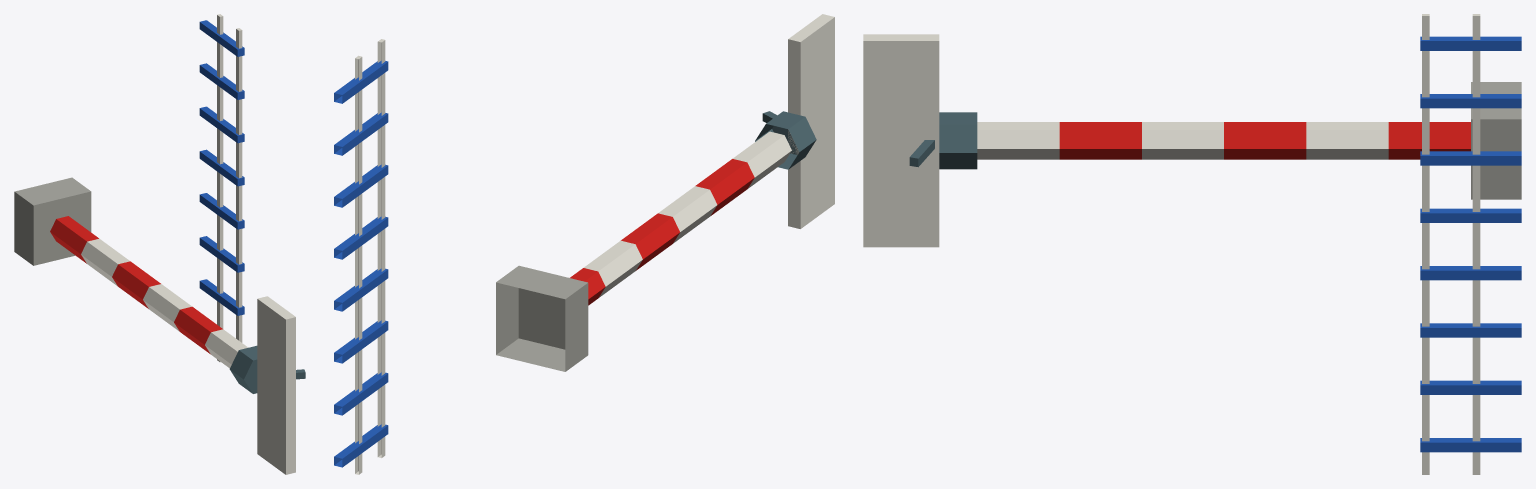
File: frame_9.glb
3 views of the same model, side by side, from view 1: azimuth 30°, elevation 25°; view 2: azimuth 150°, elevation 25°; view 3: azimuth 270°, elevation 25° (orthographic). The views are drawn at different scales.
Parts seen in each view (by area): view 1: t5_4_g31.009; view 2: t5_4_g31.009; view 3: t5_4_g31.009.
Part boxes in pixels (left/top/right/bottom): t5_4_g31.009: left=14, top=14, right=305, bottom=474; t5_4_g31.009: left=334, top=14, right=834, bottom=474; t5_4_g31.009: left=863, top=14, right=1521, bottom=474.
Bounding box in the file's own units: 9.32 × 16 × 20.8.
